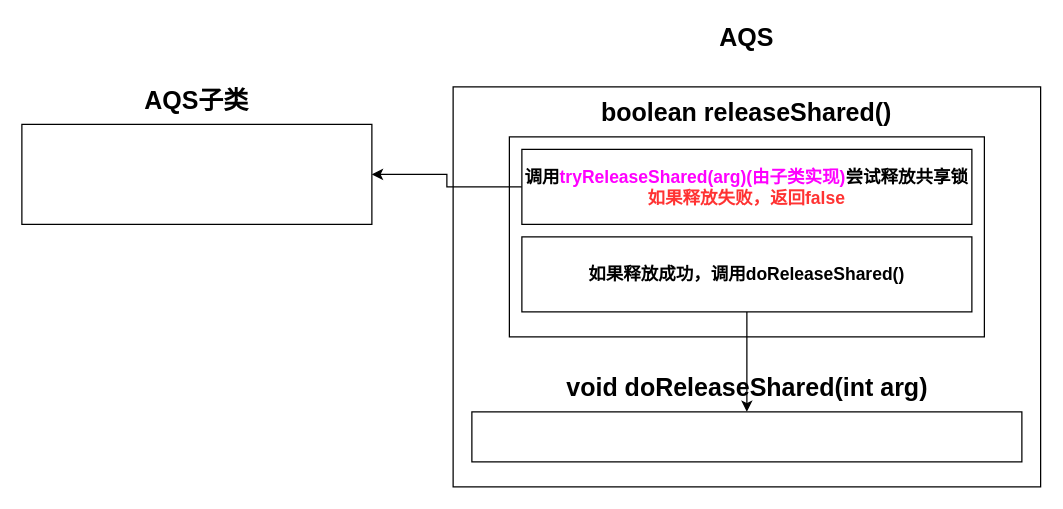
This 1063x509 diagram has some shape labels left out. The centre of each missing label's shape, as x and y in pixels:
"boolean tryReleaseShared(int arg)" goes at (196,173).
"如果有后继节点，那么将通过 LockSupport.unpark() 将后继节点唤醒" goes at (746,436).
